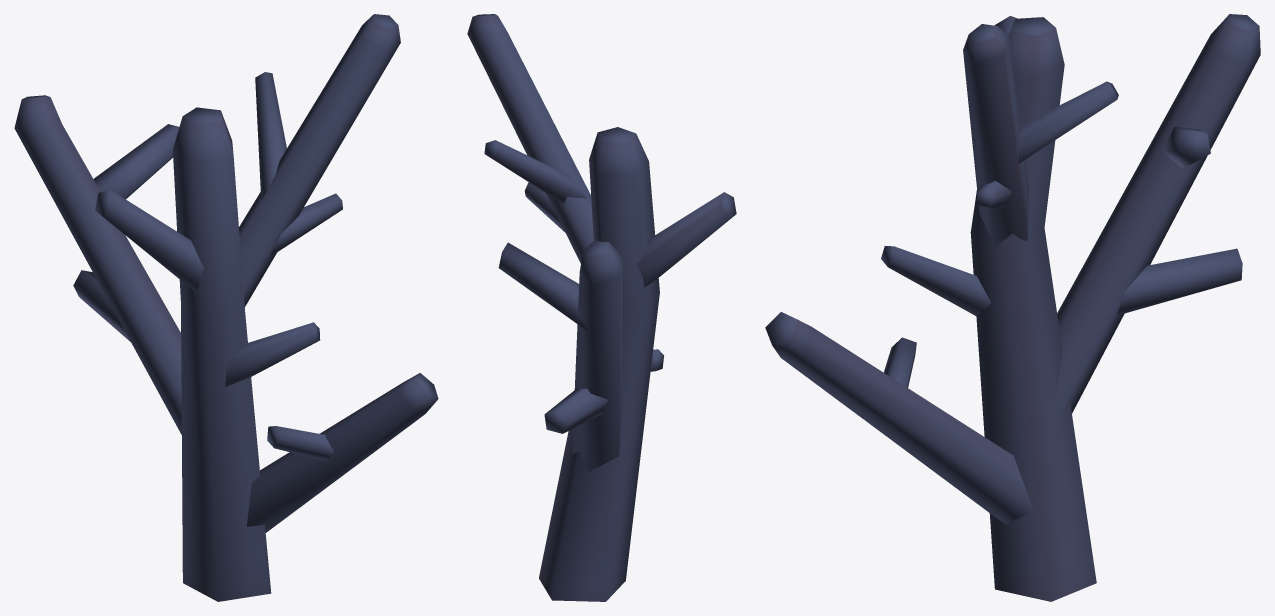
Rendered from Sunken Tomb Sharp Coral 3.fbx.
The picture shows the model from 3 angles, left to right: view 1: azimuth 30°, elevation 25°; view 2: azimuth 150°, elevation 25°; view 3: azimuth 270°, elevation 25°; orthographic projection. The views are drawn at different scales.
Visible parts, largest first — view 1: Sharp Coral 3; view 2: Sharp Coral 3; view 3: Sharp Coral 3.
Boxes of the visible parts, bbox=[...] form: Sharp Coral 3: bbox=[14, 14, 438, 601]; Sharp Coral 3: bbox=[467, 14, 736, 601]; Sharp Coral 3: bbox=[765, 14, 1260, 601].
Bounding box in the file's own units: 259 × 480 × 348.
